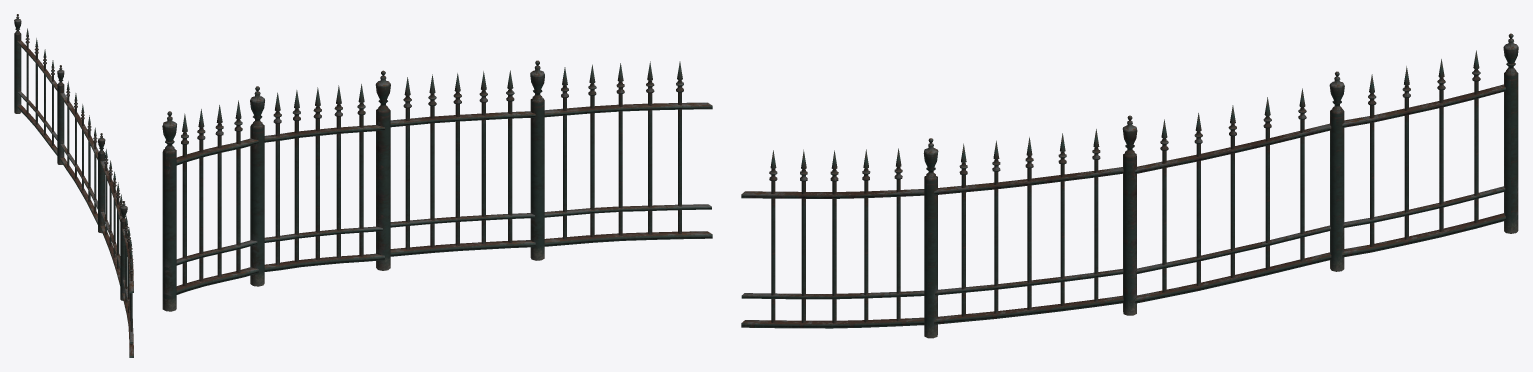
3 views of the same model, side by side, from view 1: azimuth 30°, elevation 25°; view 2: azimuth 150°, elevation 25°; view 3: azimuth 270°, elevation 25° (orthographic). The views are drawn at different scales.
Parts seen in each view (by area): view 1: LODGroup_1_MainMesh_1_SubMesh_1; view 2: LODGroup_1_MainMesh_1_SubMesh_1; view 3: LODGroup_1_MainMesh_1_SubMesh_1.
Boxes of the visible parts, box(x1,y1,x2,y2) form: LODGroup_1_MainMesh_1_SubMesh_1: box(14, 14, 133, 357); LODGroup_1_MainMesh_1_SubMesh_1: box(162, 60, 712, 311); LODGroup_1_MainMesh_1_SubMesh_1: box(741, 33, 1518, 338).
Size of the model in its own units: 127 by 269 by 514.
